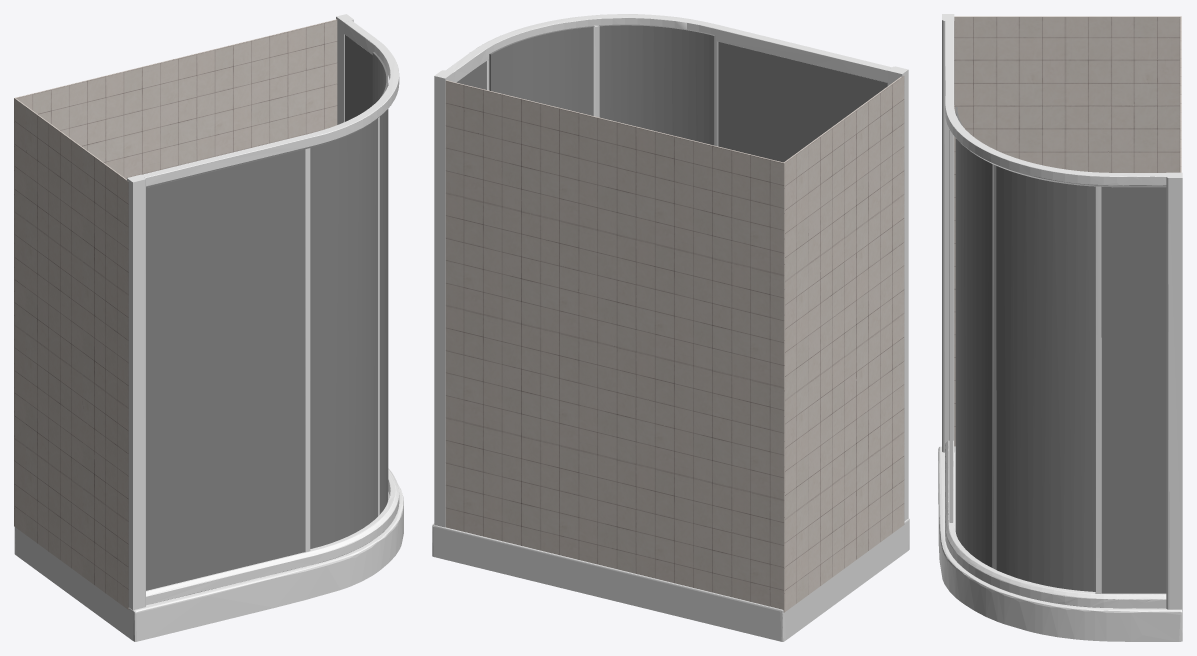
File: Shower bath.fbx
The picture shows the model from 3 angles, left to right: view 1: azimuth 30°, elevation 25°; view 2: azimuth 150°, elevation 25°; view 3: azimuth 270°, elevation 25°; orthographic projection. The views are drawn at different scales.
Visible parts, largest first — view 1: shower bath; view 2: shower bath; view 3: shower bath.
Boxes of the visible parts, <box> form: shower bath: <box>14,14,403,641</box>; shower bath: <box>432,14,909,641</box>; shower bath: <box>938,14,1182,641</box>.
Bounding box in the file's own units: 160 × 209 × 100.
3 materials, 1 textured.
